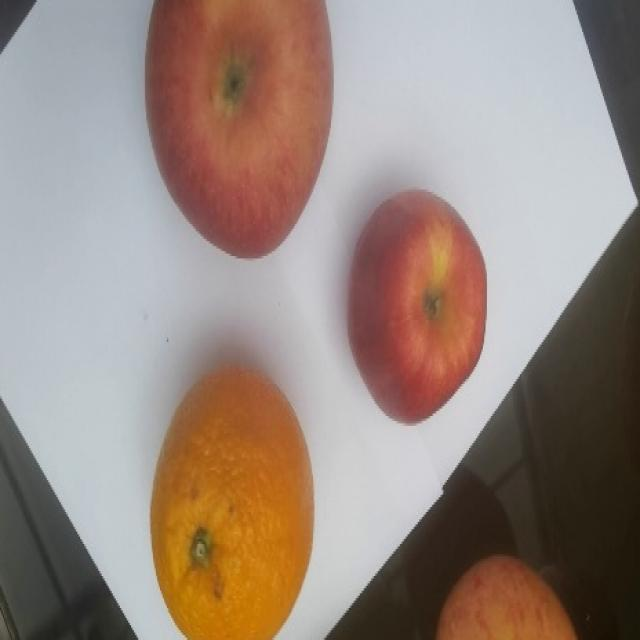Apple: (143, 0, 333, 259), (346, 187, 487, 424), (435, 553, 578, 639)
Orange: (149, 364, 315, 639)
